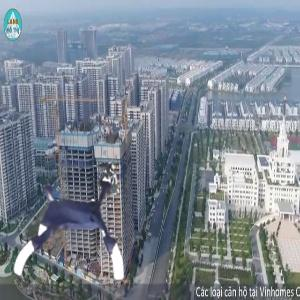drone: (6, 172, 128, 294)
